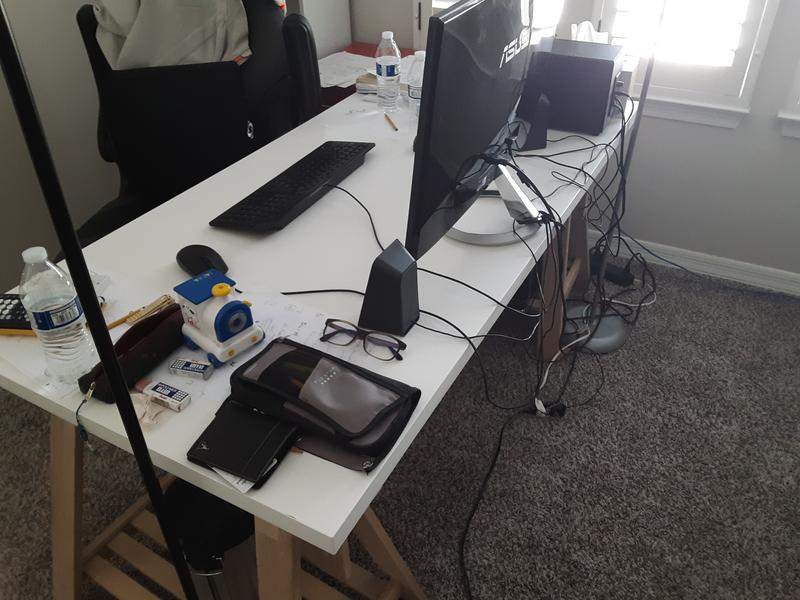glasses: (318, 316, 408, 364)
